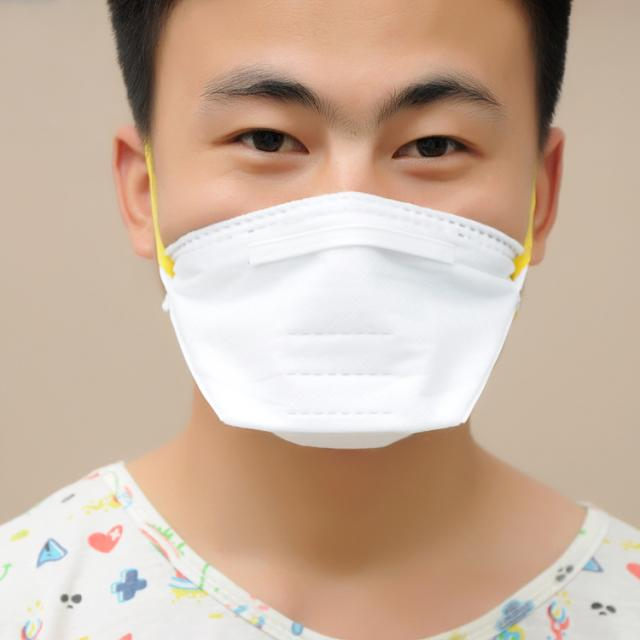mask: (160, 0, 538, 442)
